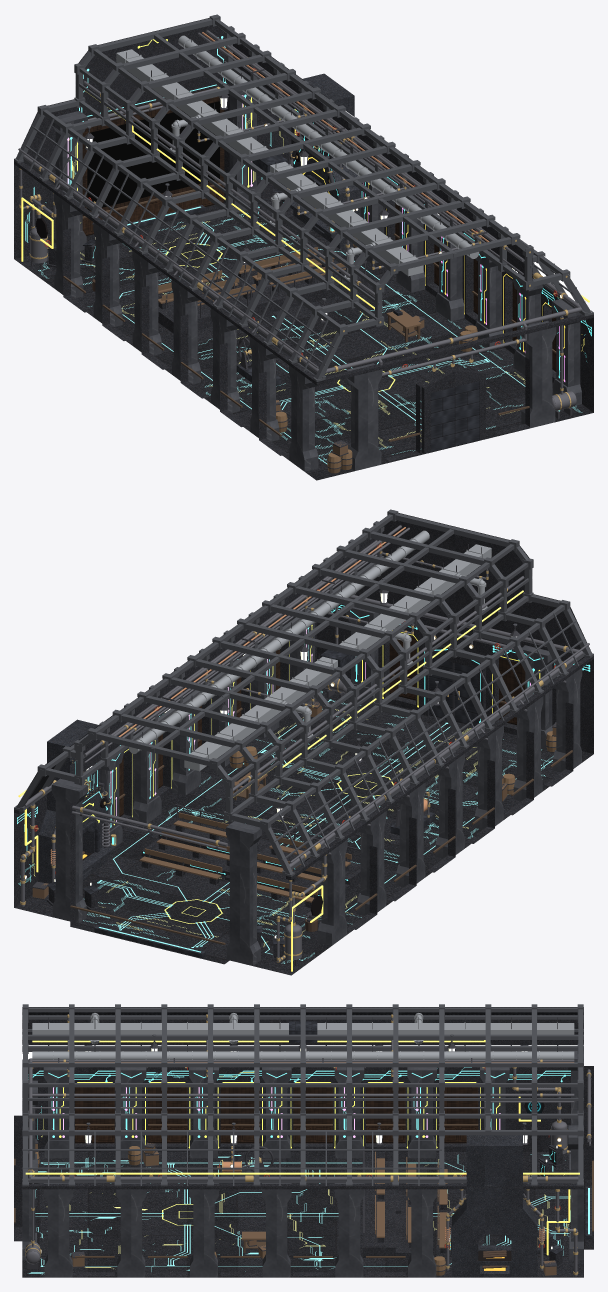
File: forge_hall.glb
3 views of the same model, one above another, from view 1: azimuth 30°, elevation 25°; view 2: azimuth 150°, elevation 25°; view 3: azimuth 270°, elevation 25° (orthographic). The views are drawn at different scales.
Visible parts, largest first — view 1: Upper, Floor, Walls, Ducts, Pipes, TVScreen, Back_Door, Seating, Props, Forge, Pillar_16, Pillar_17 (+14 smaller); view 2: Upper, Floor, Walls, Ducts, Seating, Pipes, Props, Forge, Pillar_1, Pillar_2, Back_Door, Pillar_3 (+12 smaller); view 3: Upper, Floor, Walls, Ducts, Forge, Pipes, Seating, Props, Pillar_11, Pillar_14, Pillar_12, Pillar_15 (+12 smaller).
Boxes of the visible parts, x1,y1,x2,y2 form: Upper: (14, 14, 593, 385); Floor: (14, 196, 593, 480); Walls: (14, 18, 593, 461); Ducts: (116, 30, 494, 280); Pipes: (18, 45, 589, 418); TVScreen: (87, 101, 219, 210); Back_Door: (421, 369, 485, 453); Seating: (158, 247, 367, 333); Props: (19, 109, 478, 473); Forge: (281, 73, 360, 248); Pillar_16: (346, 363, 381, 470); Pillar_17: (520, 320, 556, 428); Upper: (14, 509, 593, 880); Floor: (14, 688, 593, 975); Walls: (14, 513, 593, 957); Ducts: (113, 525, 491, 771); Seating: (139, 804, 360, 907); Pipes: (18, 540, 589, 882); Props: (20, 700, 556, 971); Forge: (39, 719, 119, 891); Pillar_1: (226, 821, 261, 965); Pillar_2: (51, 778, 87, 923); Back_Door: (421, 645, 485, 726); Pillar_3: (317, 839, 347, 945); Upper: (22, 1004, 583, 1189); Floor: (22, 1152, 593, 1277); Walls: (14, 1066, 593, 1275); Ducts: (32, 1013, 574, 1076); Forge: (445, 1135, 544, 1277); Pipes: (25, 1040, 579, 1270); Seating: (362, 1146, 447, 1257); Props: (35, 1067, 578, 1276); Pillar_11: (334, 1183, 364, 1277); Pillar_14: (116, 1183, 146, 1277); Pillar_12: (262, 1183, 291, 1277); Pillar_15: (43, 1183, 73, 1277).
Size of the model in its own units: 19 by 12.1 by 35.1.
32 materials, 9 textured.
